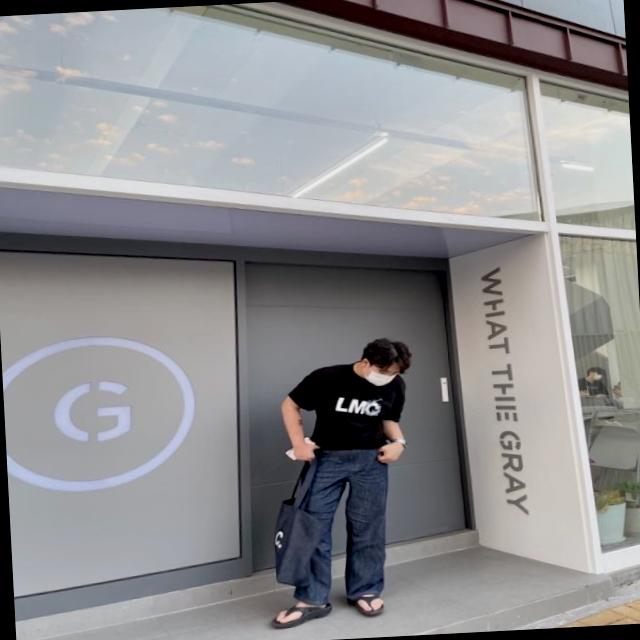denimpants: (279, 432, 396, 610)
shortsleeve: (284, 356, 408, 456)
